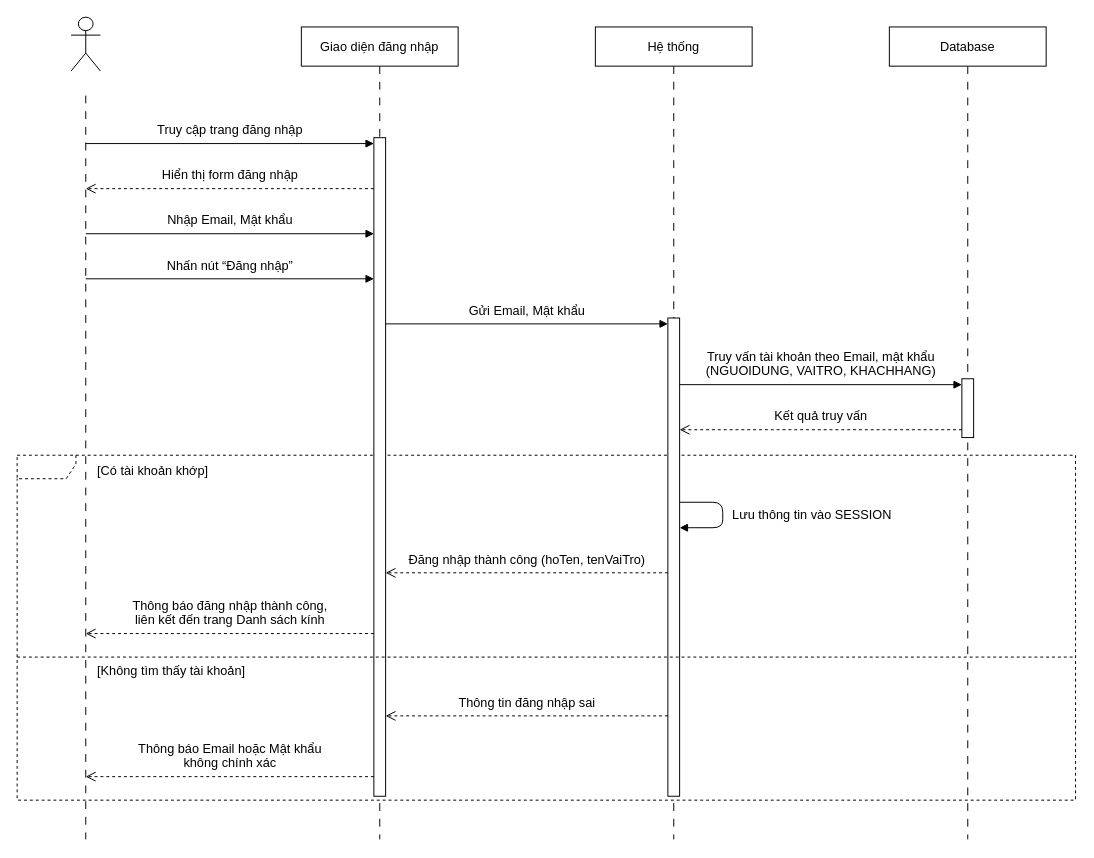
Some shapes in this 1094 by 858 pixel diagram are drawn without their labels. The shapes that lost their labels are listed below. From the top down, each one's box as (x1, y1, x2, y2) in pixels, then its label:
(70, 16, 100, 71): Người dùng
(16, 454, 1076, 800): alt
